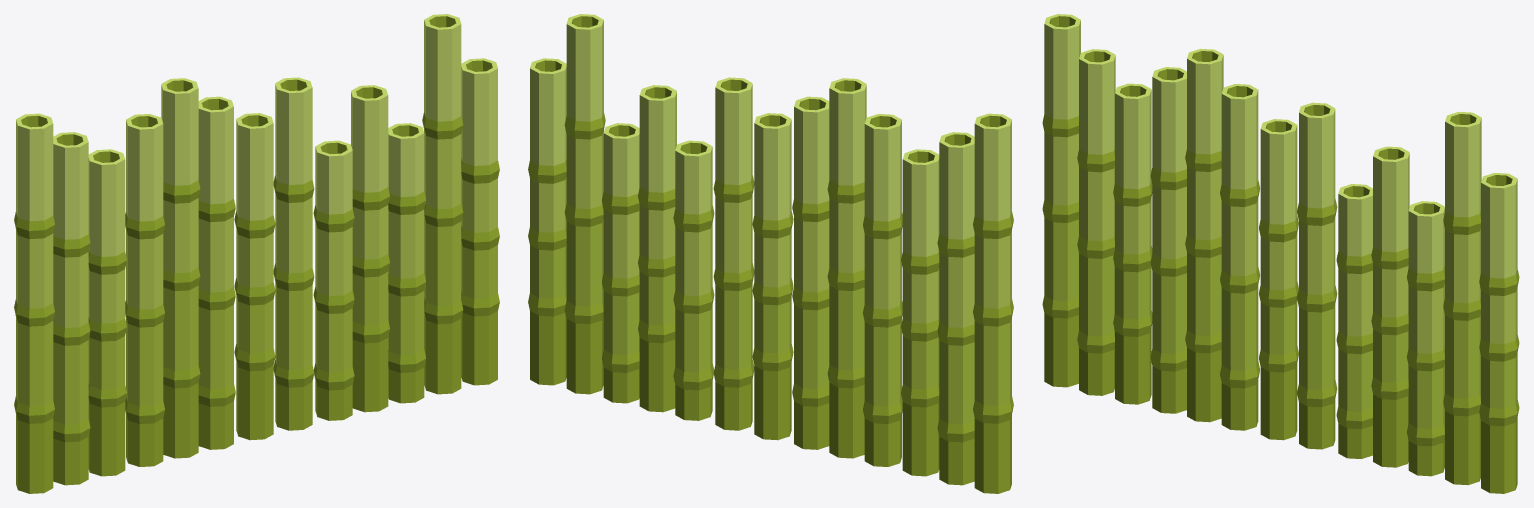
File: fence_bamboo_green_1.fbx
3 views of the same model, side by side, from view 1: azimuth 30°, elevation 25°; view 2: azimuth 150°, elevation 25°; view 3: azimuth 330°, elevation 25° (orthographic).
Visible parts, largest first — view 1: fence_bamboo_green_1; view 2: fence_bamboo_green_1; view 3: fence_bamboo_green_1.
Boxes of the visible parts, box(x1,y1,x2,y2) form: fence_bamboo_green_1: box(14, 14, 499, 493); fence_bamboo_green_1: box(528, 14, 1013, 493); fence_bamboo_green_1: box(1042, 14, 1519, 493).
Size of the model in its own units: 317 by 229 by 24.2.
